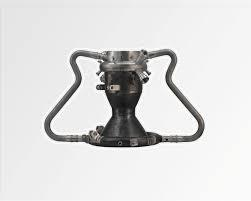thruster: (97, 92, 148, 148), (137, 70, 149, 84), (138, 49, 148, 61), (95, 69, 102, 77), (97, 58, 104, 64), (146, 70, 152, 76)
